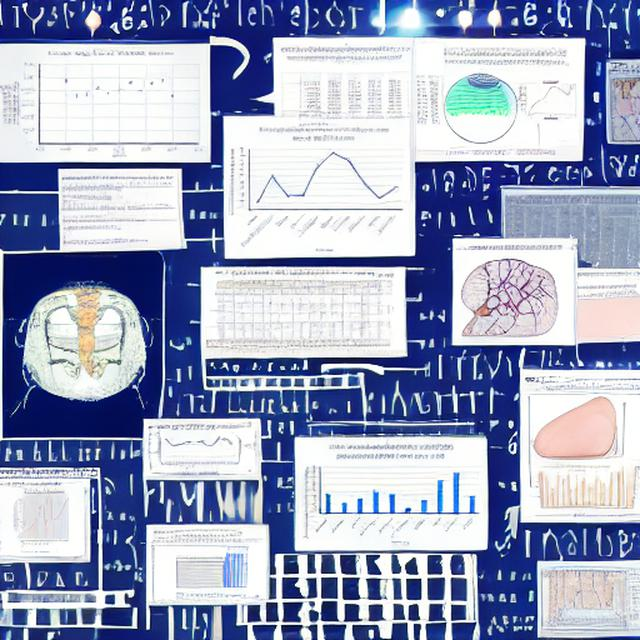Graph: (228, 125, 406, 255), (15, 49, 206, 160), (300, 441, 484, 548), (6, 488, 81, 544), (532, 463, 615, 513), (153, 427, 227, 469), (518, 75, 582, 123)
